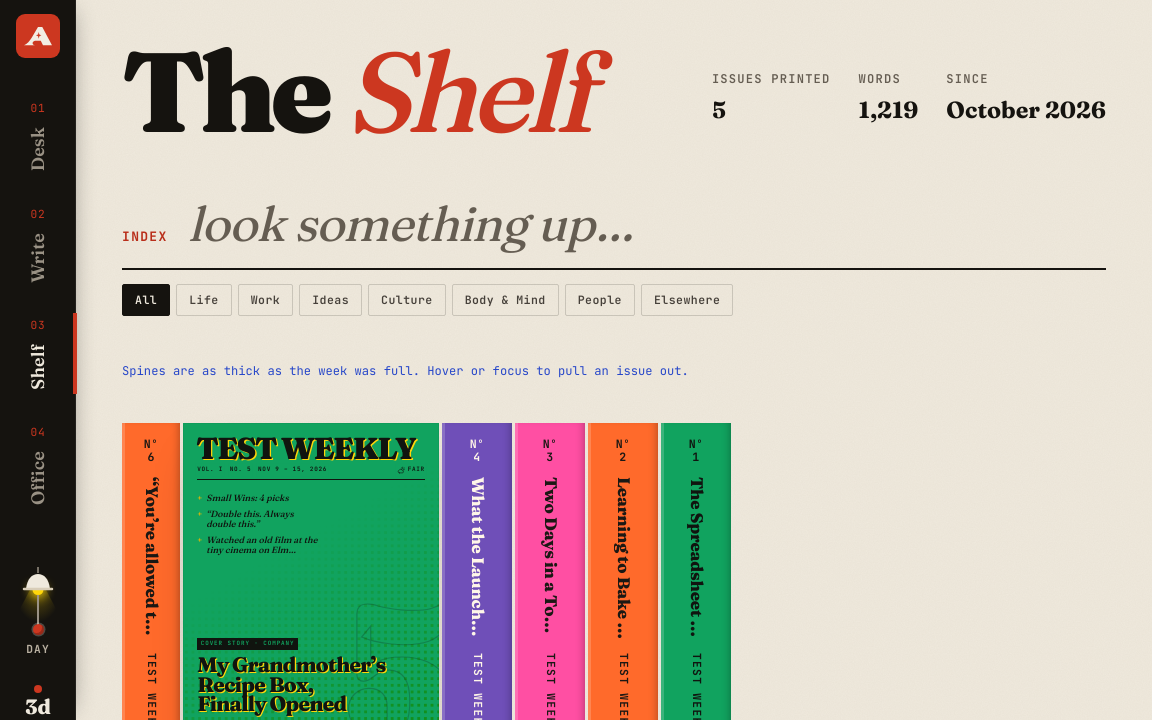
Test: app flows › searches across every issue with highlighted matches
Type "bread" into the search field.
click(646, 223); type("bread")  # box [186,184,1106,262]
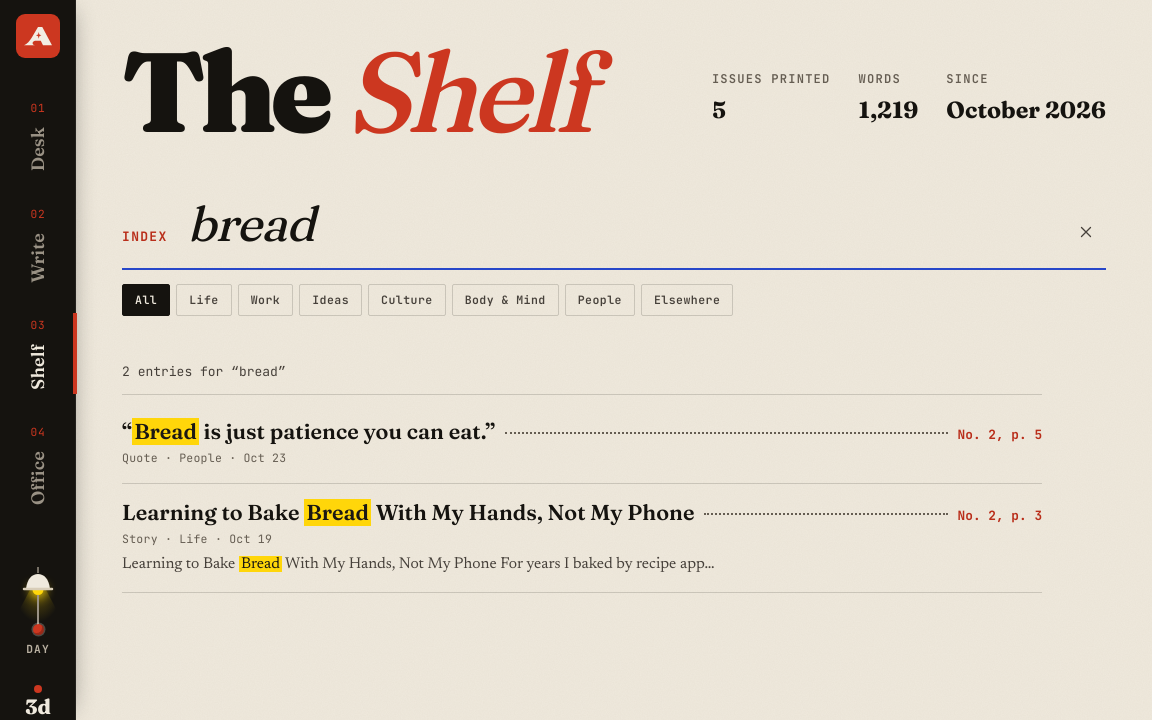
Now the link that starts with "Bread" is shown, box [122,403,1042,484]
Now the text "Bread" next to "is just patience you can eat.”" is shown, box [134,418,197,445]
Clear the search field at (617, 223), box [186,184,1048,262]
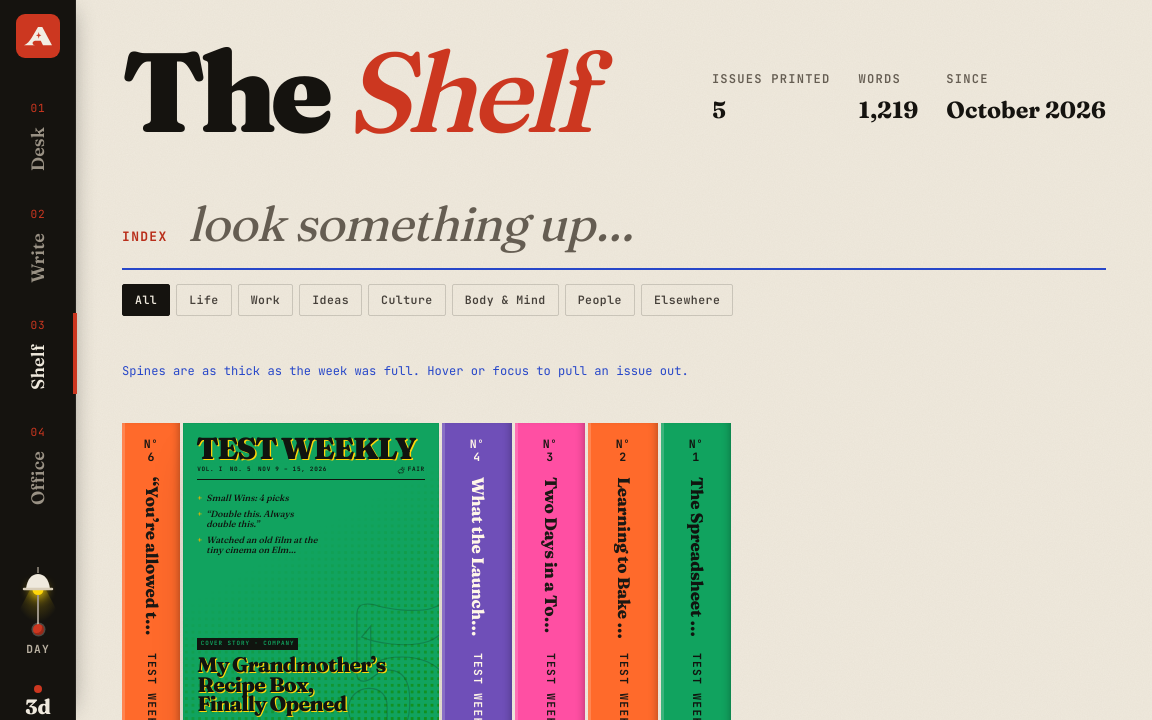
Type "zzzxq" into the search field.
click(646, 223); type("zzzxq")  # box [186,184,1106,262]
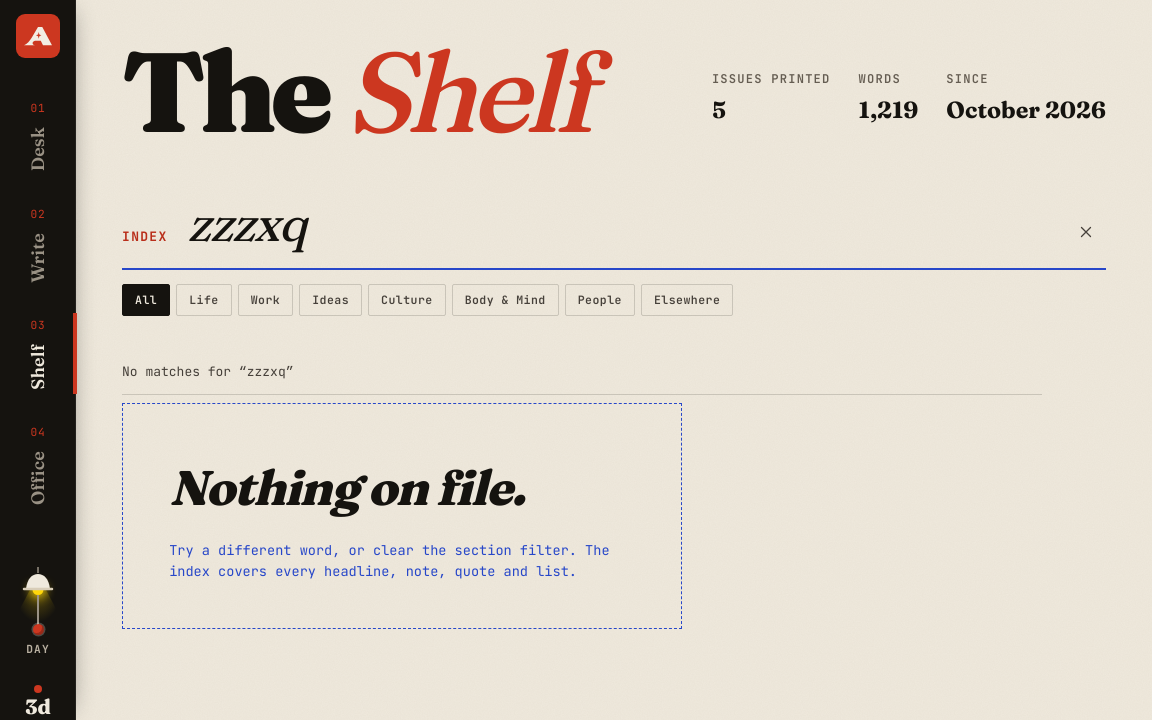
Now the text "Nothing on file." is shown, box [169,450,525,526]
